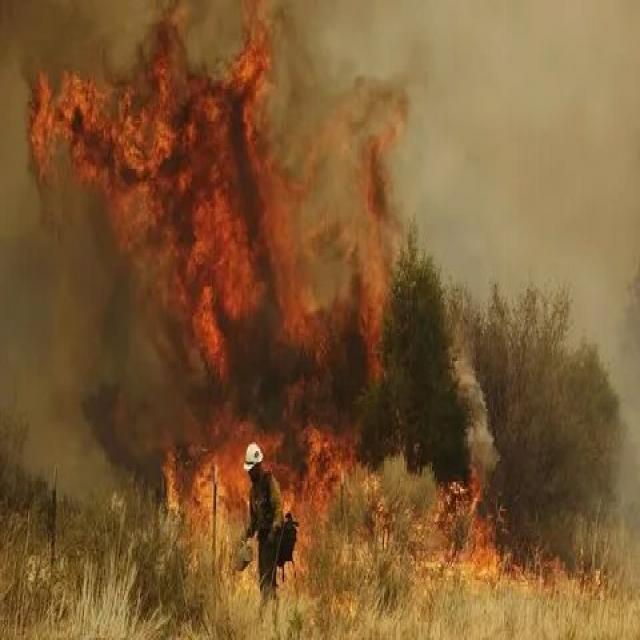Fire: (52, 16, 380, 596), (418, 485, 590, 612)
